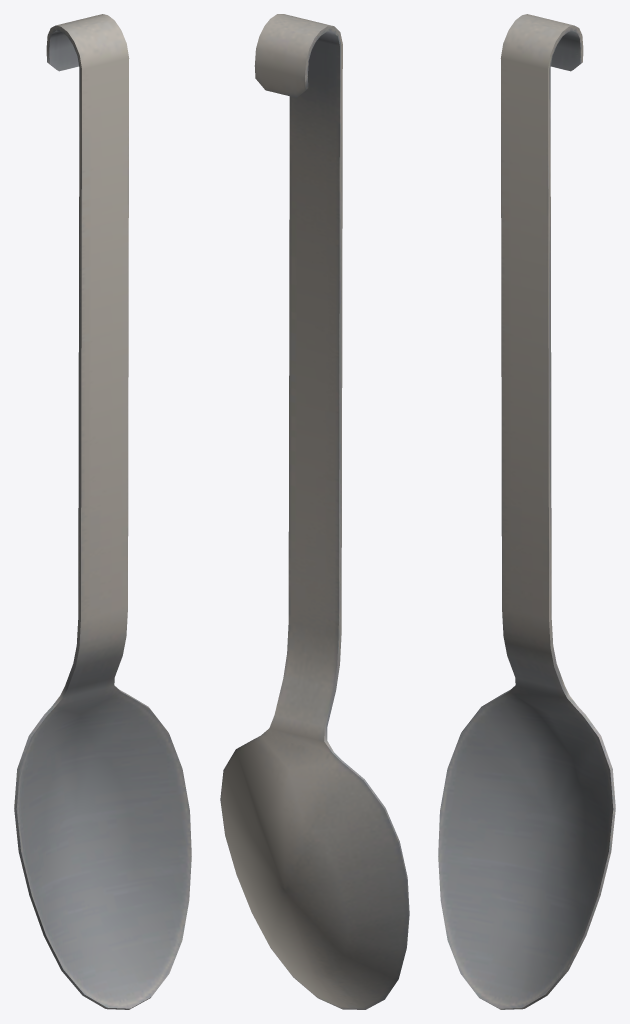
The model's file is SM_Utensil_01.glb.
3 renders of one model, left to right at view 1: azimuth 30°, elevation 25°; view 2: azimuth 150°, elevation 25°; view 3: azimuth 330°, elevation 25°, orthographic. The views are drawn at different scales.
Visible parts, largest first — view 1: SM_Utensil_01; view 2: SM_Utensil_01; view 3: SM_Utensil_01.
Part boxes in pixels (left/top/right/bottom): SM_Utensil_01: left=14, top=14, right=191, bottom=1009; SM_Utensil_01: left=220, top=14, right=409, bottom=1009; SM_Utensil_01: left=438, top=14, right=615, bottom=1009.
Size of the model in its own units: 0.0668 by 0.3574 by 0.0408.
Materials: 1 (1 with a texture image).
